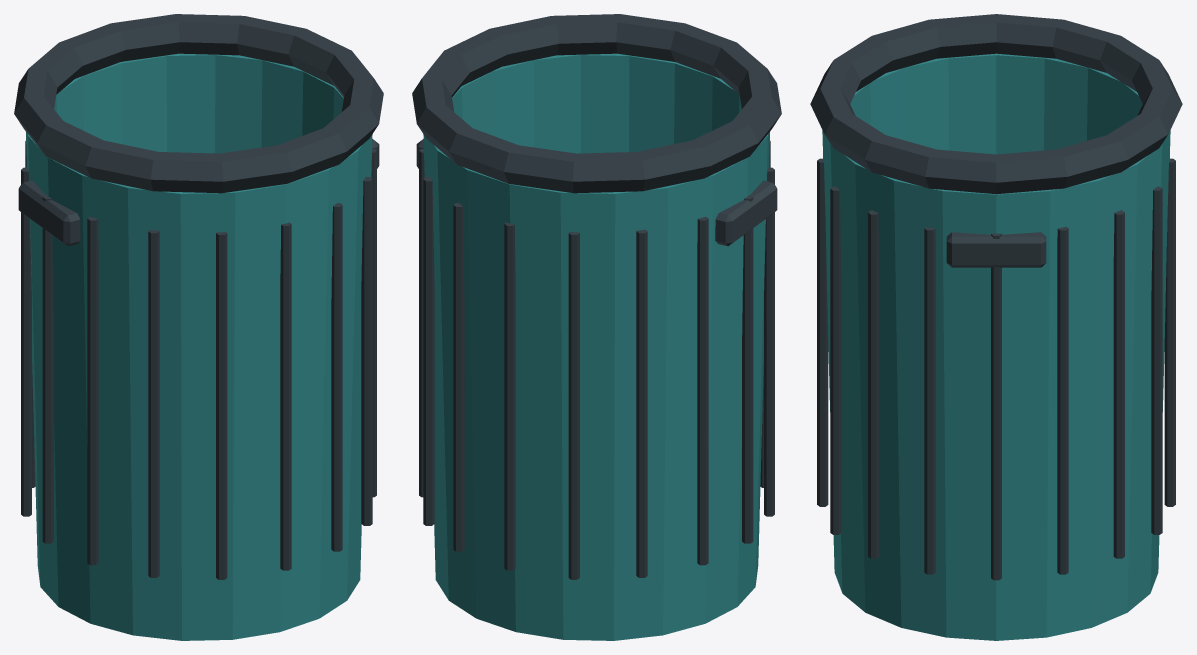
The model's file is Trash_Bin_Public.glb.
3 views of the same model, side by side, from view 1: azimuth 30°, elevation 25°; view 2: azimuth 150°, elevation 25°; view 3: azimuth 270°, elevation 25° (orthographic).
Visible parts, largest first — view 1: Trash_Bin_Public; view 2: Trash_Bin_Public; view 3: Trash_Bin_Public.
Boxes of the visible parts, left/top/right/bottom form: Trash_Bin_Public: left=14, top=14, right=383, bottom=640; Trash_Bin_Public: left=412, top=14, right=781, bottom=640; Trash_Bin_Public: left=810, top=14, right=1182, bottom=640.
Size of the model in its own units: 0.598 by 0.8577 by 0.598.
